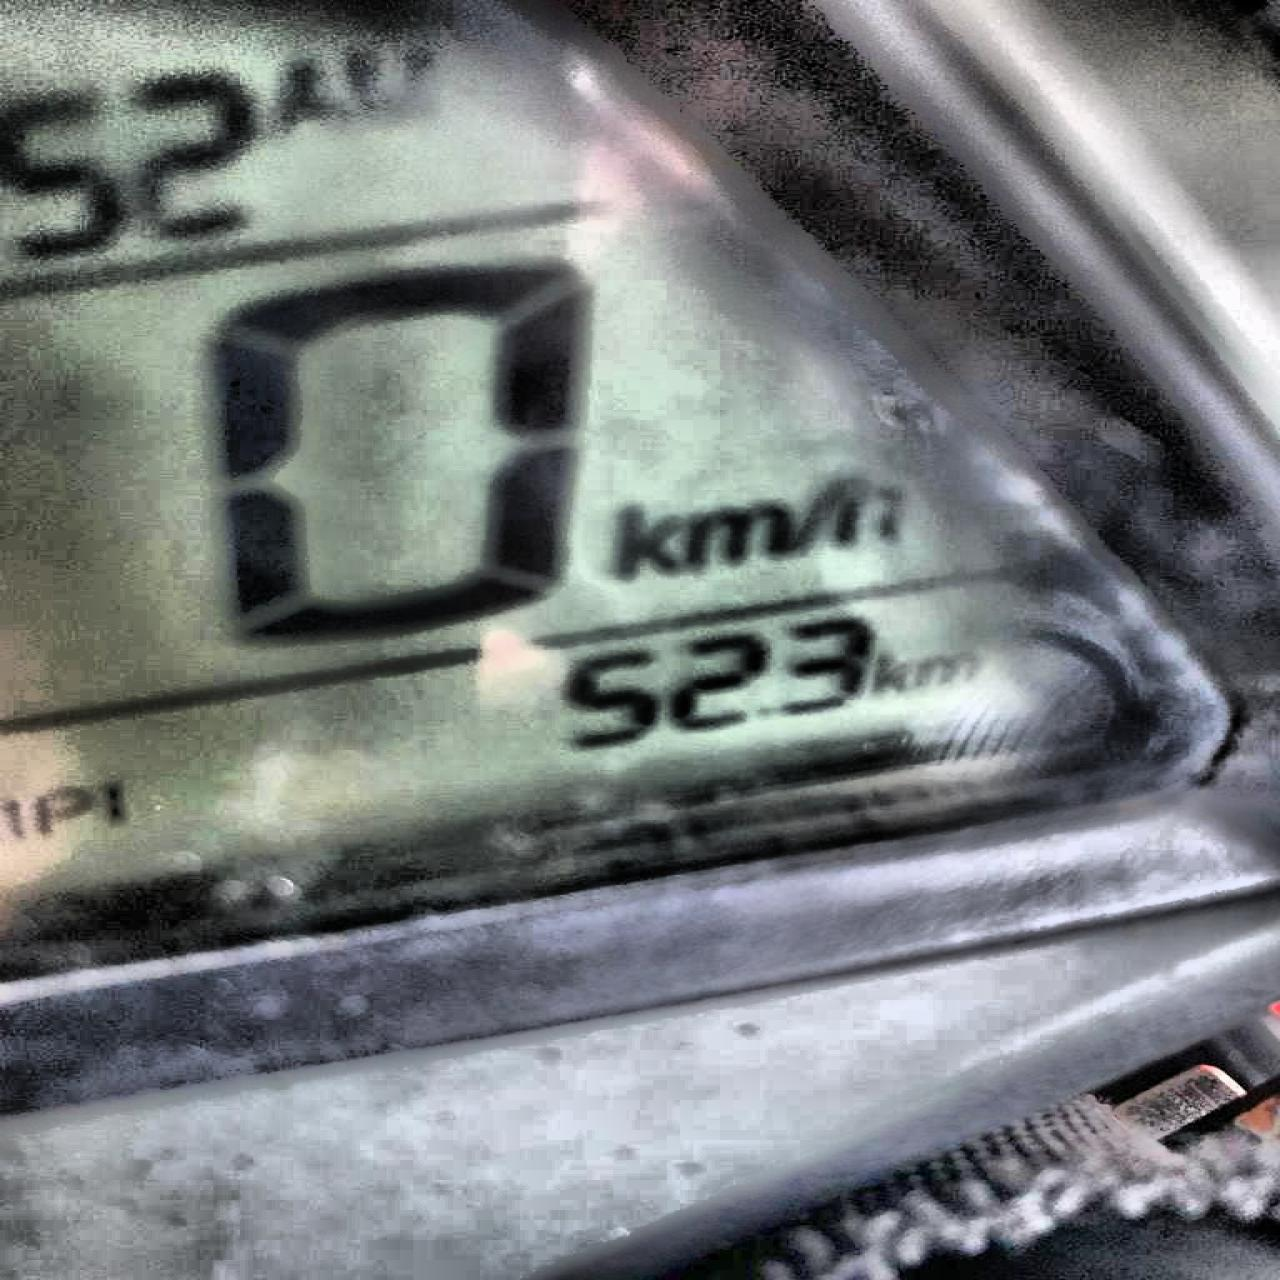-: (758, 700, 775, 729)
0: (205, 267, 587, 641)
1: (96, 772, 131, 829)
2: (131, 63, 266, 238), (668, 629, 760, 733)
3: (775, 617, 866, 715)
5: (1, 86, 125, 260), (557, 647, 659, 747)
X: (347, 46, 445, 123), (271, 48, 347, 143), (685, 502, 794, 566), (838, 462, 907, 552), (608, 499, 683, 580), (28, 768, 94, 850), (791, 469, 837, 563), (913, 647, 985, 688), (872, 641, 911, 696), (0, 787, 28, 843)
odometer: (0, 0, 1252, 1005)
